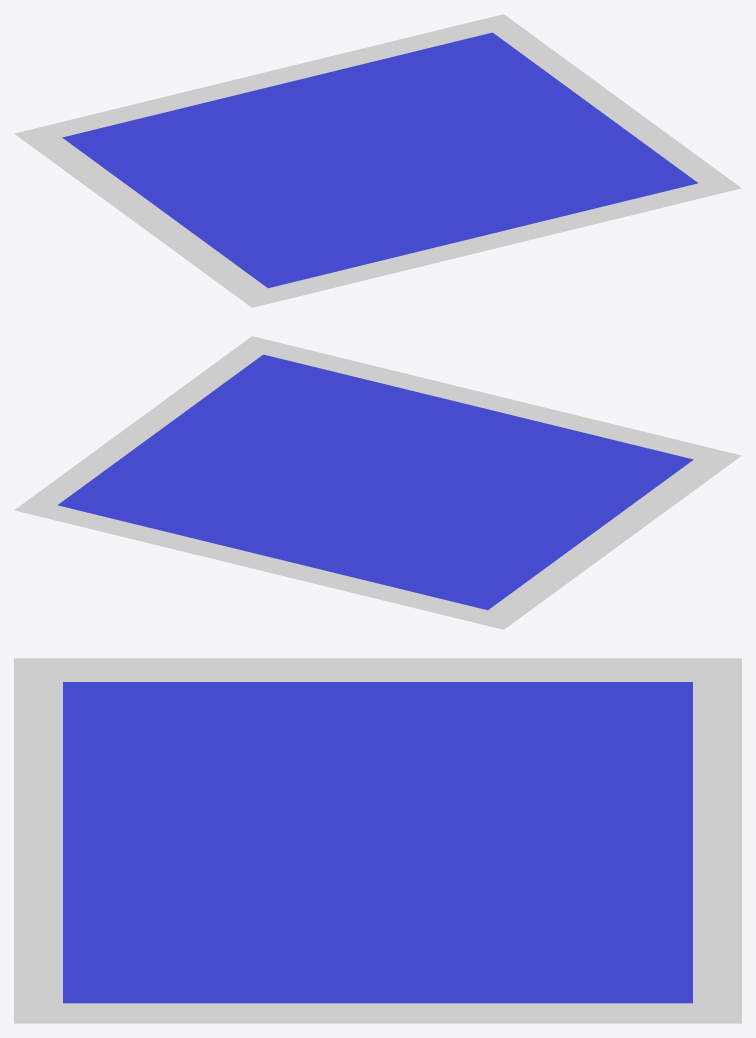
The model's file is PagesTest04.fbx.
The picture shows the model from 3 angles, top to bottom: view 1: azimuth 30°, elevation 25°; view 2: azimuth 150°, elevation 25°; view 3: azimuth 270°, elevation 25°; orthographic projection. The views are drawn at different scales.
Visible parts, largest first — view 1: Page3.001; view 2: Page3.001; view 3: Page3.001.
Part boxes in pixels (box(x1,y1,x2,y2)): Page3.001: box(14, 14, 741, 307); Page3.001: box(14, 336, 741, 629); Page3.001: box(14, 658, 741, 1023).
Size of the model in its own units: 1782 by 2.36 by 1500.
